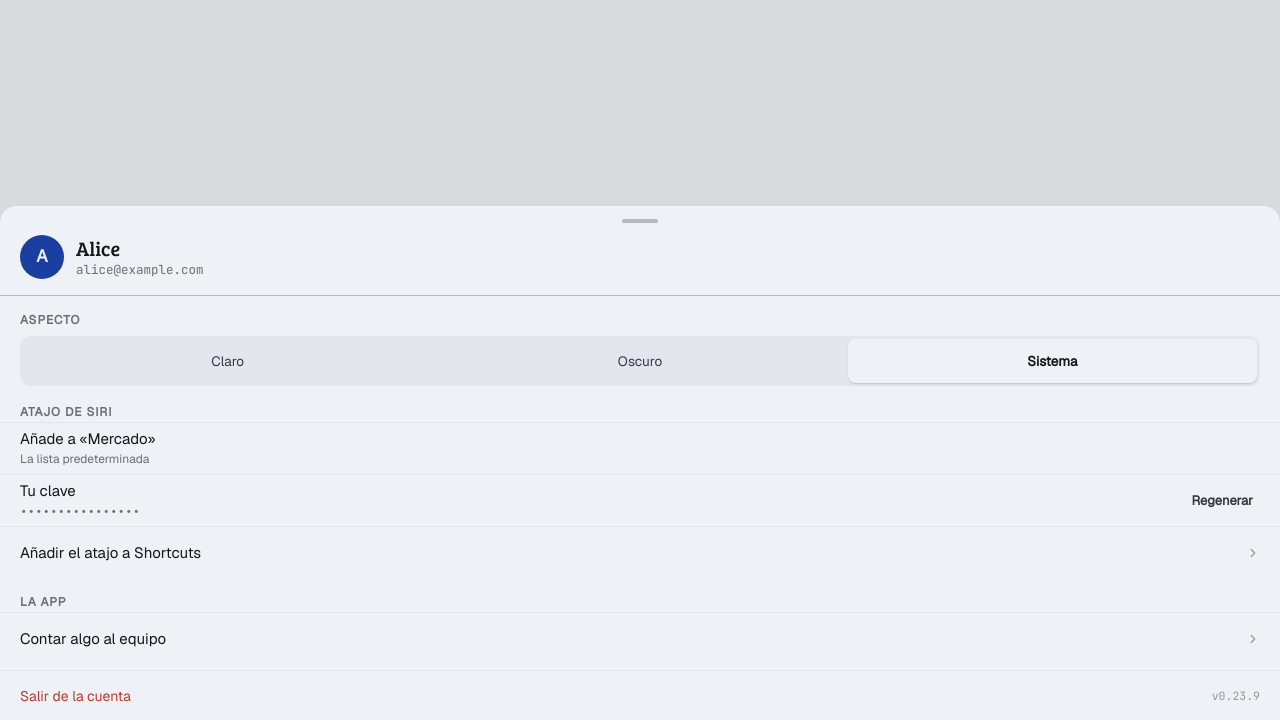
Test case: SettingsSheet — regenerate confirm flow › Escape in the confirm sub-state returns to the settings view instead of closing
Click the button "Regenerar".
click(1222, 500)  # box [1184,479,1260,522]
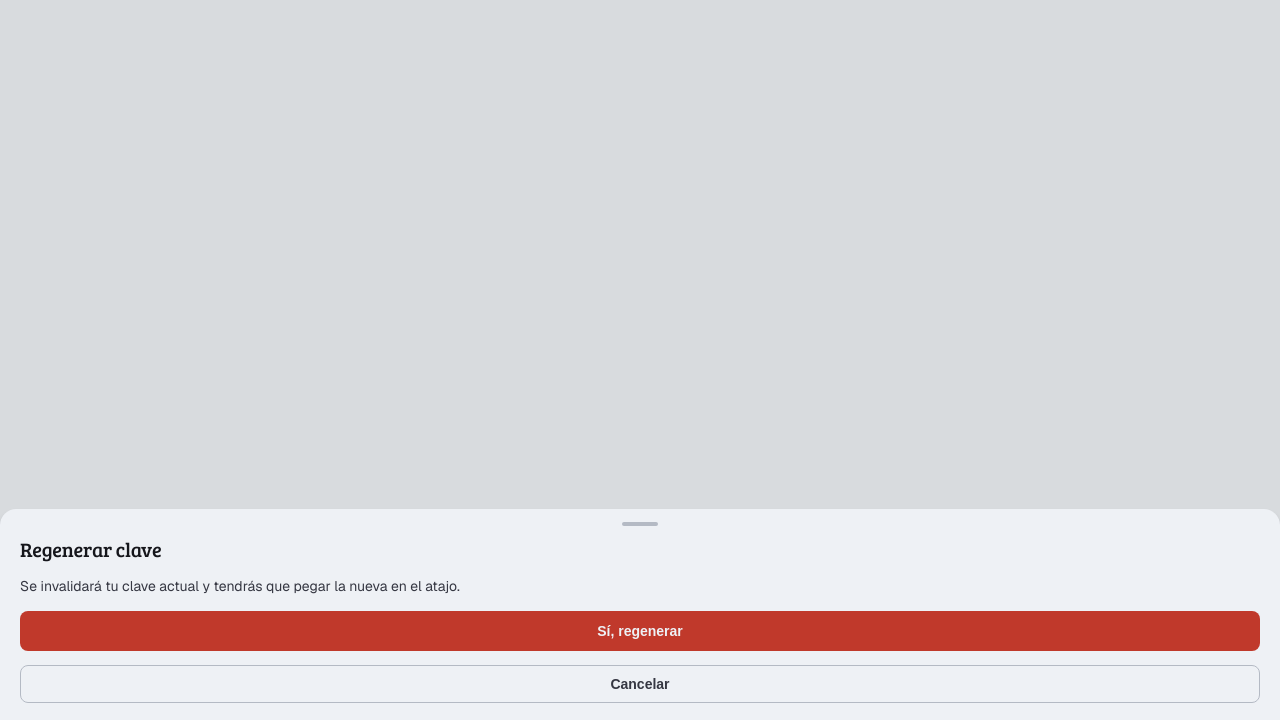
Now the dialog "Regenerar clave" is shown, box [0,509,1279,719]
Press Escape
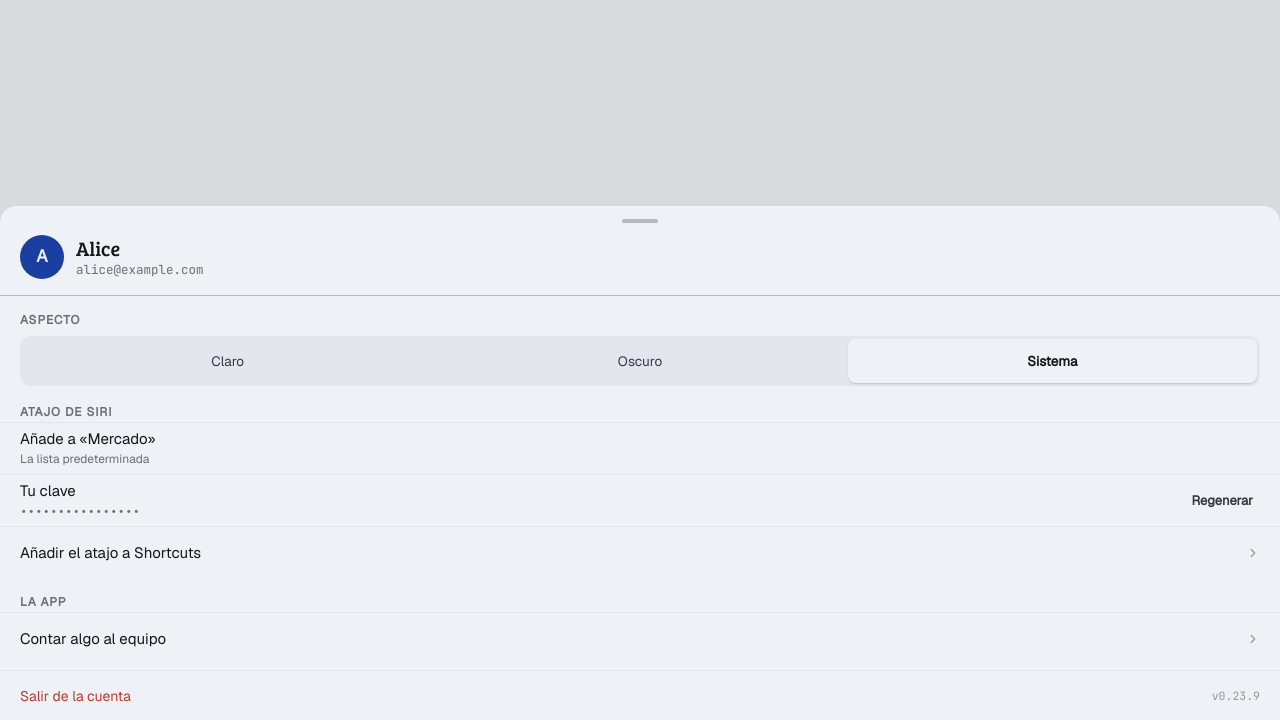
Now the dialog named "Ajustes" is shown
